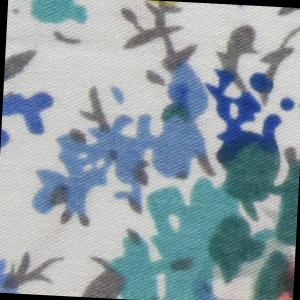Oil Stain: (146, 1, 181, 14)
Stain: (270, 256, 296, 300)
